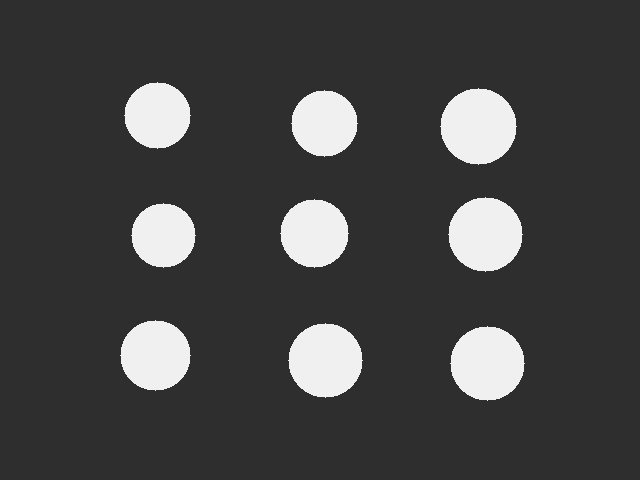hole: (440, 88, 516, 164), (448, 197, 522, 271), (288, 323, 362, 397), (450, 326, 524, 400), (120, 320, 190, 390), (280, 199, 348, 267), (124, 82, 190, 148), (291, 90, 357, 156), (131, 203, 195, 267)
